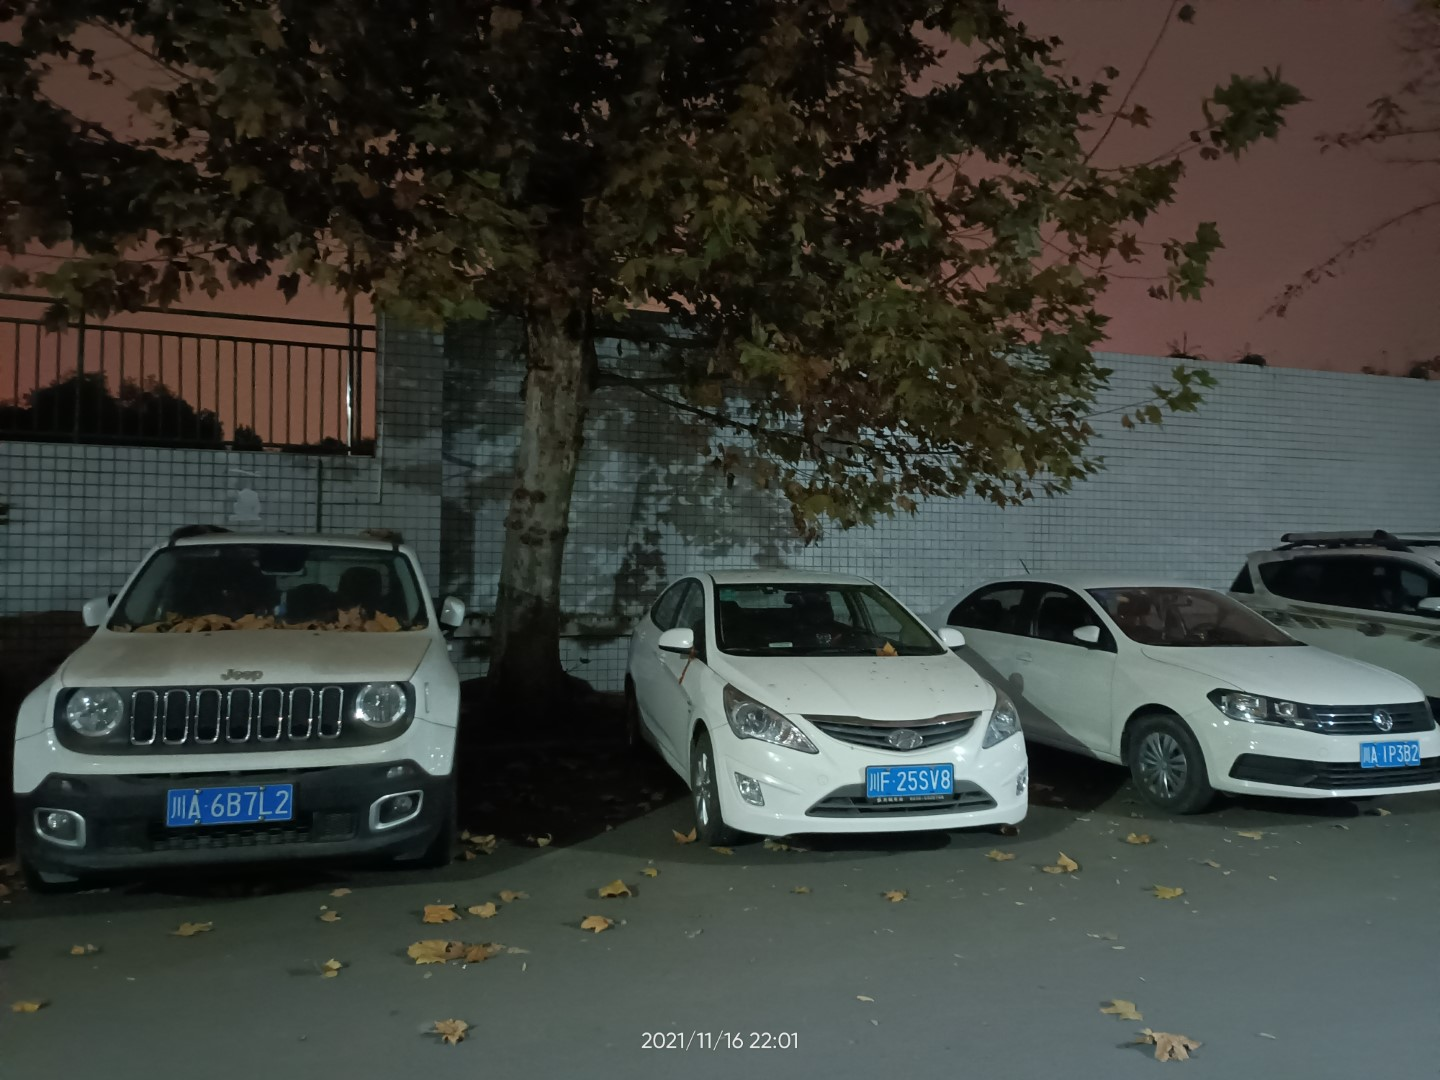plate: (166, 782, 291, 827), (864, 761, 954, 798), (1358, 739, 1420, 768)
